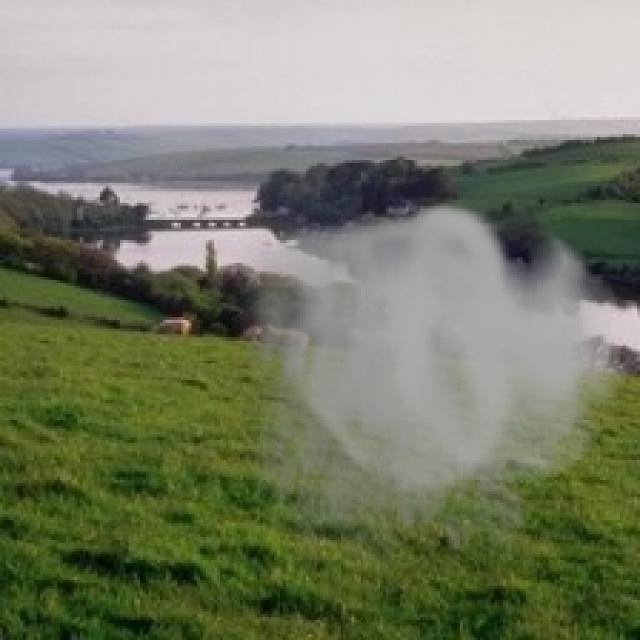smoke: (223, 197, 626, 600)
